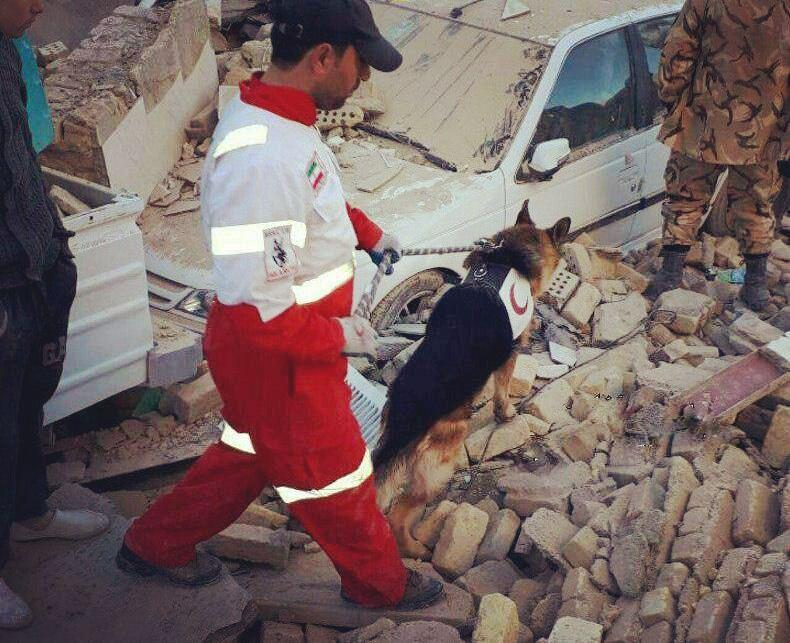victim: (114, 2, 450, 612), (0, 0, 110, 629), (631, 0, 790, 316)
